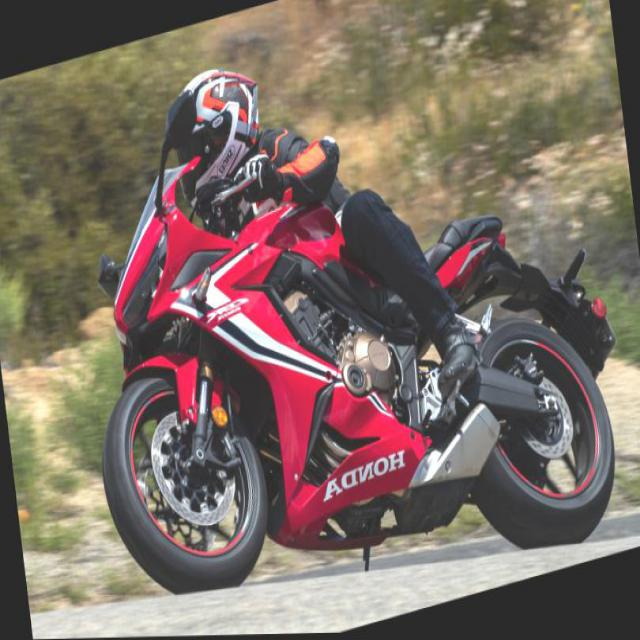CBR650R: (70, 39, 626, 638)
